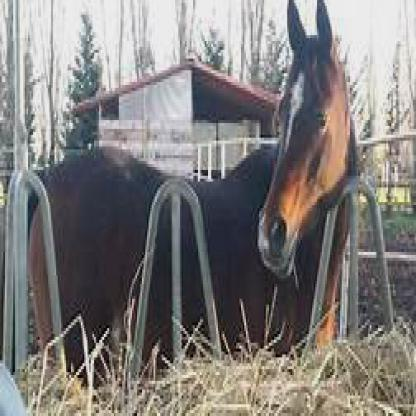horse: (26, 0, 359, 372)
